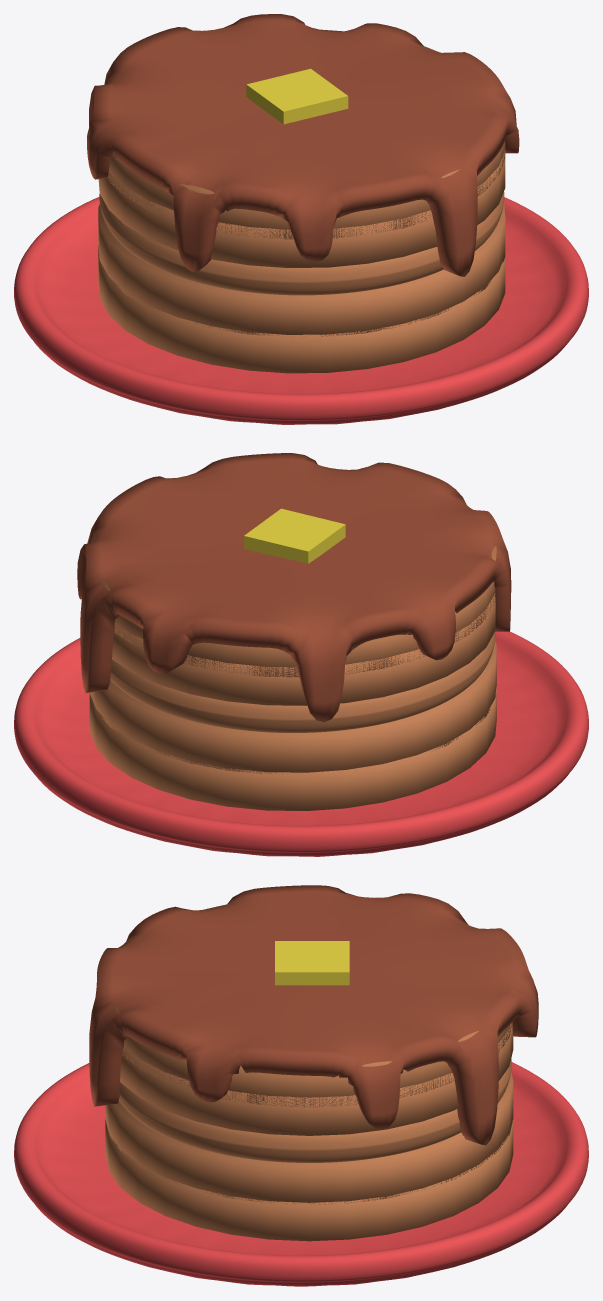
The model's file is pancakeNew.gltf.
3 views of the same model, one above another, from view 1: azimuth 30°, elevation 25°; view 2: azimuth 150°, elevation 25°; view 3: azimuth 270°, elevation 25° (orthographic).
Visible parts, largest first — view 1: Circle.004, Circle.006, Circle.001, Circle, Circle.003, Circle.002, Circle.005, Plane; view 2: Circle.004, Circle.006, Circle.001, Circle, Circle.003, Circle.002, Circle.005, Plane; view 3: Circle.004, Circle.006, Circle.001, Circle, Circle.003, Circle.002, Circle.005, Plane.
Boxes of the visible parts, x1=… form: Circle.004: x1=87, y1=14, x2=519, y2=276; Circle.006: x1=14, y1=197, x2=588, y2=424; Circle.001: x1=98, y1=202, x2=505, y2=336; Circle: x1=98, y1=245, x2=505, y2=373; Circle.003: x1=98, y1=150, x2=505, y2=267; Circle.002: x1=99, y1=192, x2=504, y2=295; Circle.005: x1=107, y1=29, x2=505, y2=239; Plane: x1=246, y1=68, x2=348, y2=124; Circle.004: x1=77, y1=453, x2=511, y2=722; Circle.006: x1=14, y1=631, x2=588, y2=856; Circle.001: x1=90, y1=641, x2=496, y2=774; Circle: x1=89, y1=687, x2=496, y2=810; Circle.003: x1=112, y1=593, x2=495, y2=705; Circle.002: x1=110, y1=631, x2=495, y2=732; Circle.005: x1=91, y1=531, x2=496, y2=677; Plane: x1=244, y1=508, x2=345, y2=563; Circle.004: x1=89, y1=885, x2=538, y2=1145; Circle.006: x1=14, y1=1062, x2=588, y2=1286; Circle.001: x1=105, y1=1072, x2=513, y2=1204; Circle: x1=105, y1=1117, x2=513, y2=1241; Circle.003: x1=120, y1=1022, x2=513, y2=1135; Circle.002: x1=119, y1=1059, x2=511, y2=1162; Circle.005: x1=111, y1=904, x2=511, y2=1107; Plane: x1=275, y1=941, x2=349, y2=985.
Size of the model in its own units: 1.98 by 0.8577 by 1.98.
